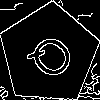Q: (24, 29, 85, 90)
